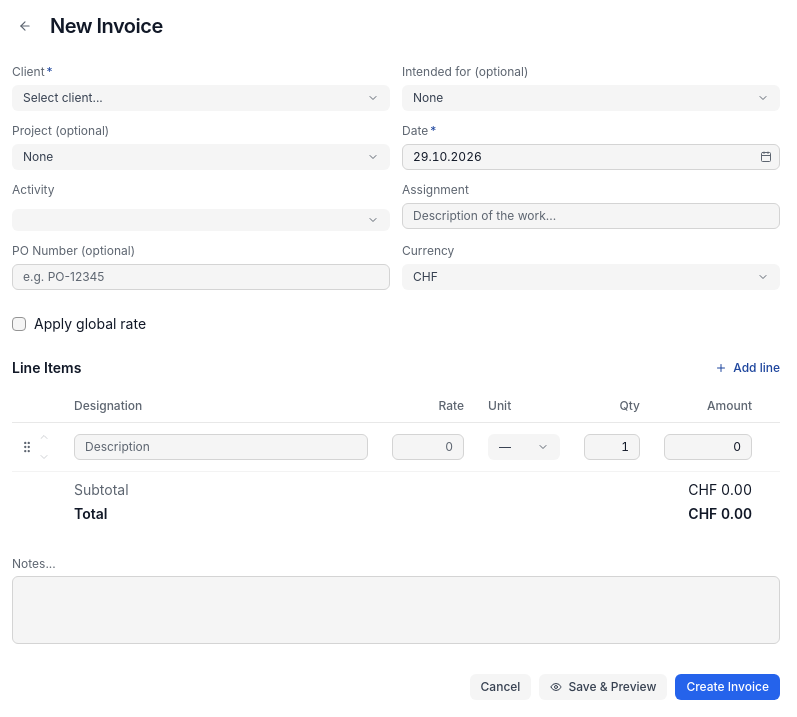
invoice form date field › typing a two-digit year then leaving the field does not show 'required'
Step 1. Replace the text in the field labelled "Date*" with "1.2.26" → (591, 157), box [402, 144, 780, 170]
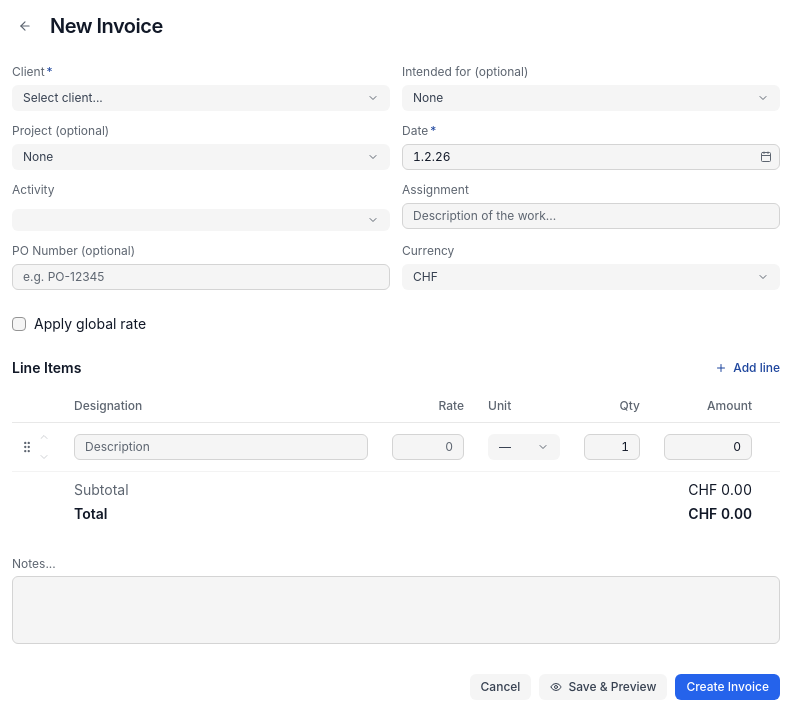
Step 2. Leave the field labelled "Date*", box [402, 144, 780, 170]
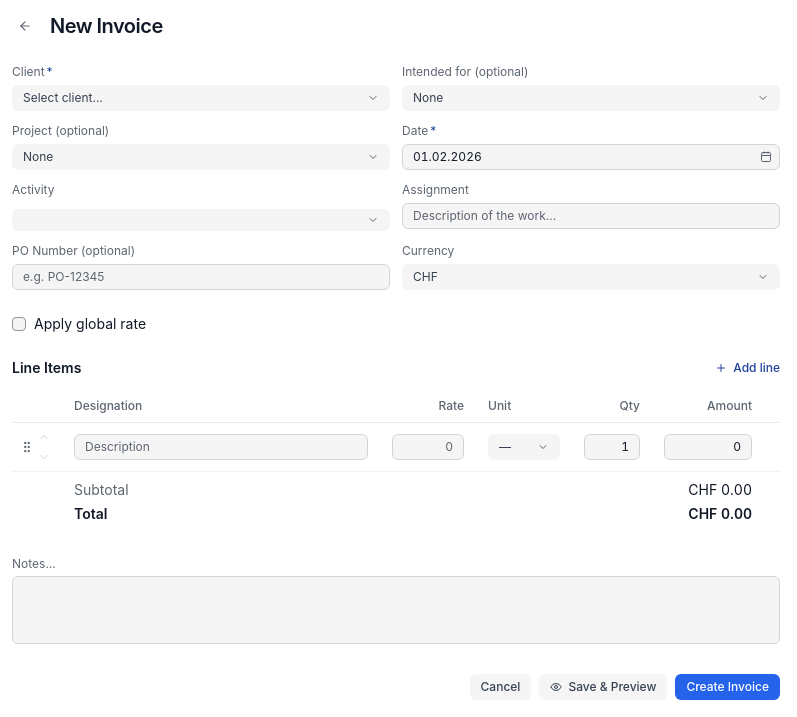
Expected: the field labelled "Date*" holds "01.02.2026", [402, 144, 780, 170]
